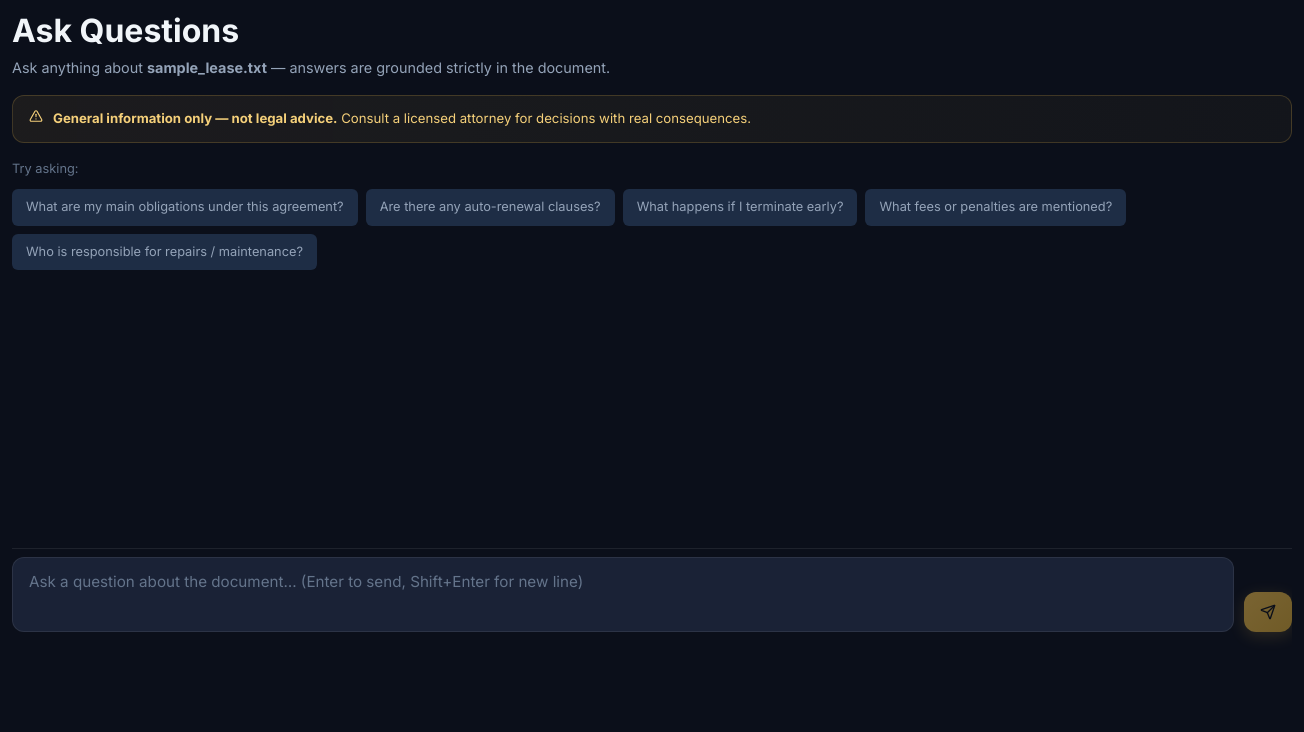
Test: QAView Component › sends a question and displays the answer from the mock API
Type "When is rent due and what is the late fee?" into the text box with placeholder "Ask a question about the document" at (623,595), box x1=12 y1=557 x2=1234 y2=632
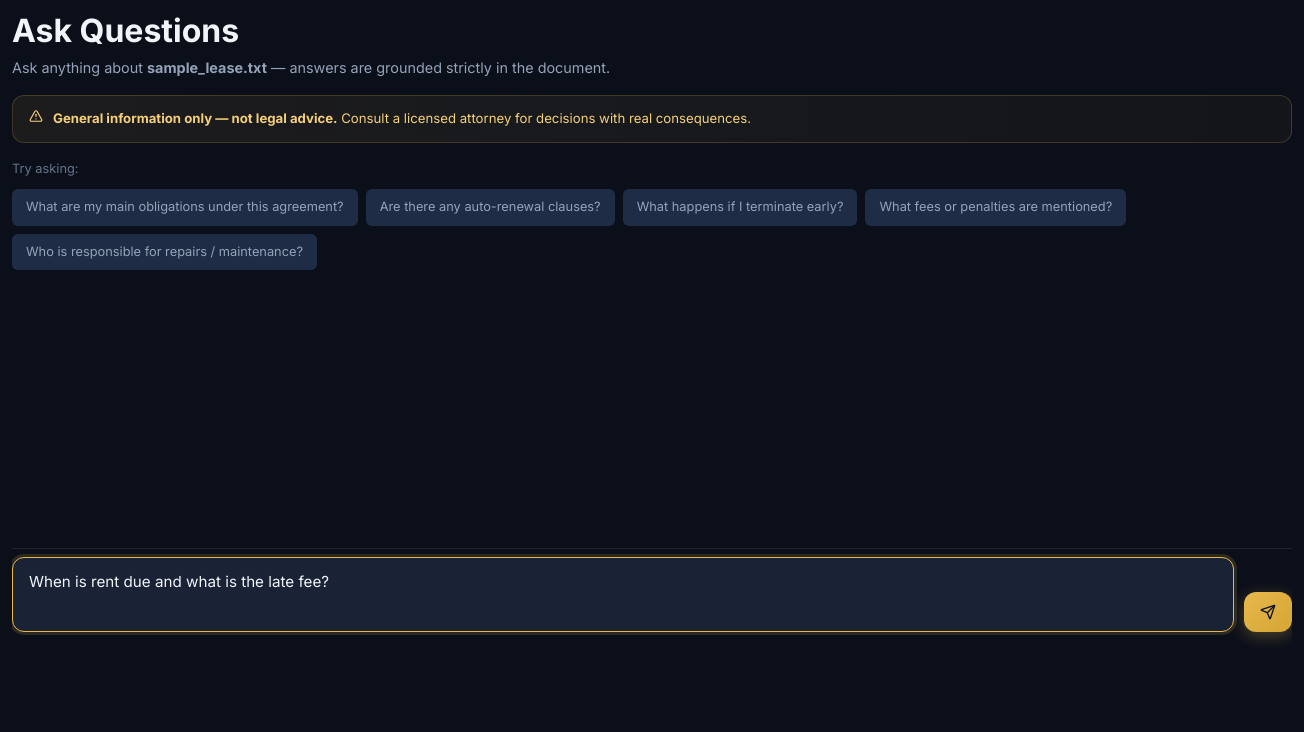
# The send button is the btn-primary button
Click the 6th button at (1268,612), box x1=1244 y1=592 x2=1292 y2=632
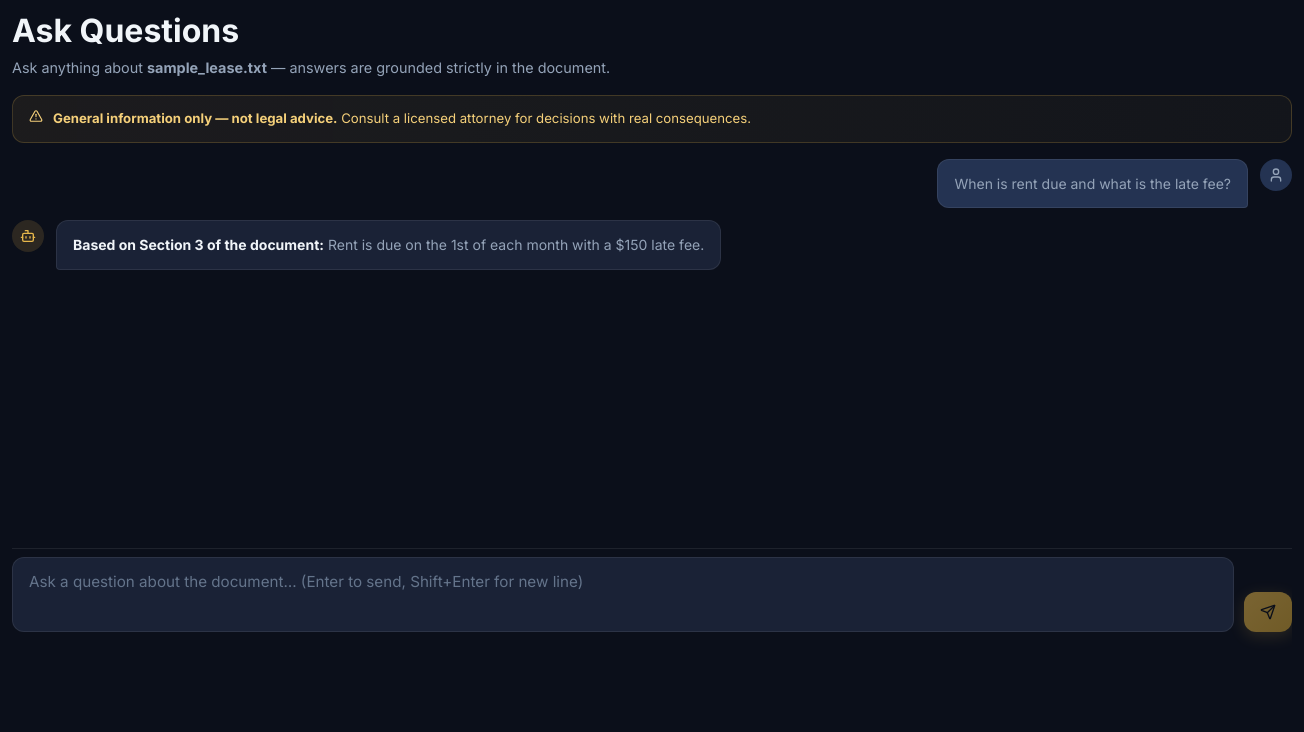
Check: the text "When is rent due and what is the late fee?" is shown, box x1=954 y1=172 x2=1231 y2=195
Check: the text "Based on Section 3 of the document:" is shown, box x1=73 y1=236 x2=324 y2=253
